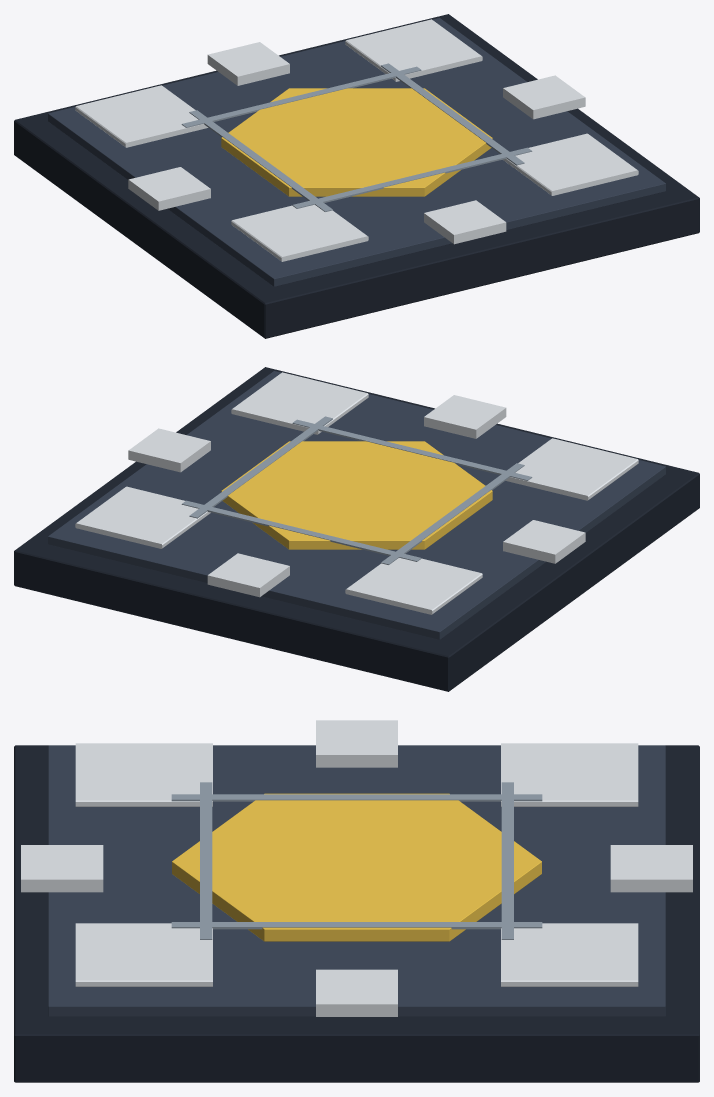
The model's file is floor_module__damaged.glb.
3 renders of one model, top to bottom at view 1: azimuth 30°, elevation 25°; view 2: azimuth 150°, elevation 25°; view 3: azimuth 270°, elevation 25°, orthographic. The views are drawn at different scales.
Visible parts, largest first — view 1: ROLE_primary, ROLE_rubber, ROLE_secondary, ROLE_warning, ROLE_bareMetal; view 2: ROLE_primary, ROLE_rubber, ROLE_secondary, ROLE_warning, ROLE_bareMetal; view 3: ROLE_primary, ROLE_rubber, ROLE_secondary, ROLE_warning, ROLE_bareMetal.
Part boxes in pixels (bbox=[...]): ROLE_primary: bbox=[48, 18, 665, 286]; ROLE_rubber: bbox=[14, 14, 699, 338]; ROLE_secondary: bbox=[75, 19, 638, 261]; ROLE_warning: bbox=[221, 88, 492, 196]; ROLE_bareMetal: bbox=[181, 63, 532, 211]; ROLE_primary: bbox=[48, 371, 665, 639]; ROLE_rubber: bbox=[14, 367, 699, 691]; ROLE_secondary: bbox=[75, 372, 638, 614]; ROLE_warning: bbox=[221, 441, 492, 549]; ROLE_bareMetal: bbox=[181, 416, 532, 564]; ROLE_primary: bbox=[48, 745, 665, 1016]; ROLE_rubber: bbox=[14, 745, 699, 1082]; ROLE_secondary: bbox=[21, 720, 692, 1016]; ROLE_warning: bbox=[172, 793, 541, 941]; ROLE_bareMetal: bbox=[171, 782, 542, 939].
Size of the model in its own units: 4 by 0.5 by 4.
